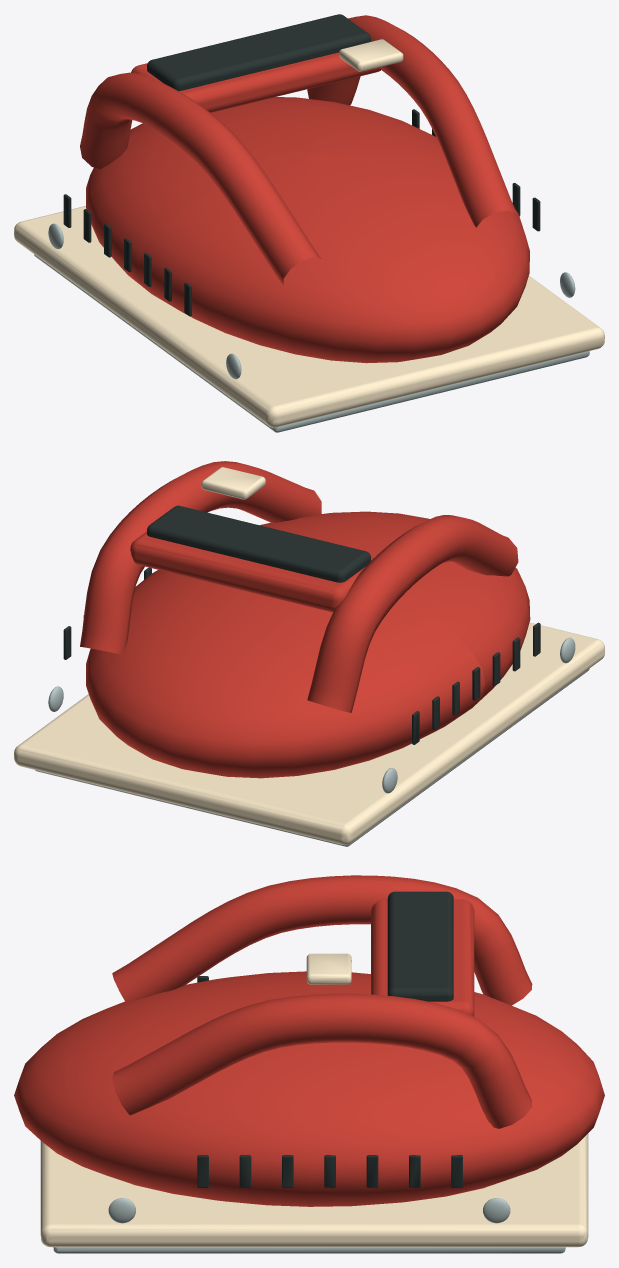
Rendered from mixer.glb.
The picture shows the model from 3 angles, top to bottom: view 1: azimuth 30°, elevation 25°; view 2: azimuth 150°, elevation 25°; view 3: azimuth 270°, elevation 25°; orthographic projection. The views are drawn at different scales.
Parts seen in each view (by area): view 1: red, ivory, dark, steel; view 2: red, ivory, dark, steel; view 3: red, ivory, dark, steel.
Part boxes in pixels (left/top/right/bottom): red: left=80, top=15, right=529, bottom=363; ivory: left=14, top=39, right=604, bottom=427; dark: left=63, top=14, right=540, bottom=316; steel: left=34, top=223, right=589, bottom=432; red: left=80, top=461, right=530, bottom=778; ivory: left=14, top=467, right=604, bottom=845; dark: left=63, top=505, right=540, bottom=744; steel: left=35, top=637, right=589, bottom=846; red: left=14, top=875, right=604, bottom=1206; ivory: left=40, top=953, right=588, bottom=1247; dark: left=197, top=891, right=462, bottom=1187; steel: left=53, top=1198, right=565, bottom=1253.
Bounding box in the file's own units: 0.434 × 0.286 × 0.6.
